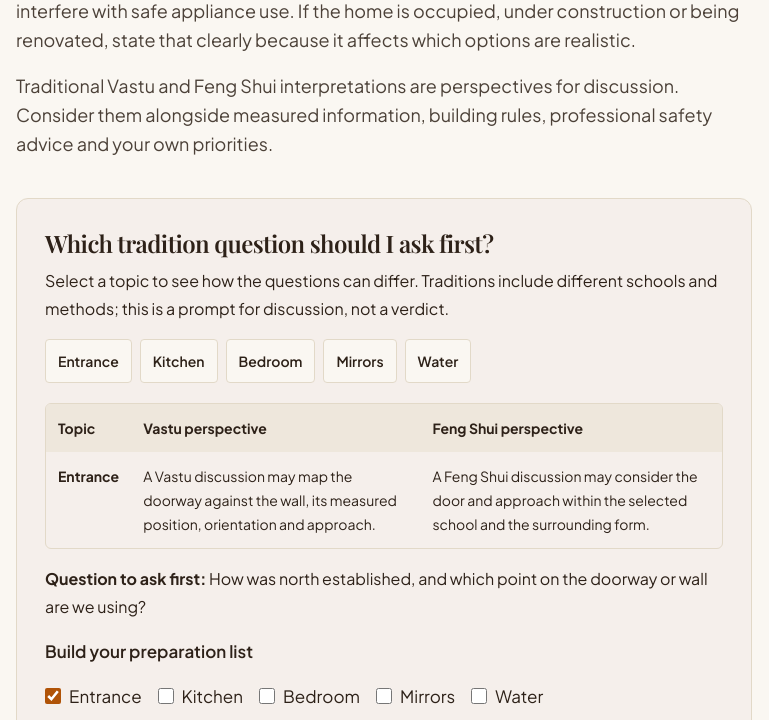
Test: blog article guides › compares tradition-specific questions and updates the preparation output
(page scrolled)
Step 1. Click the button "Kitchen" → (179, 361), box left=140, top=339, right=218, bottom=383
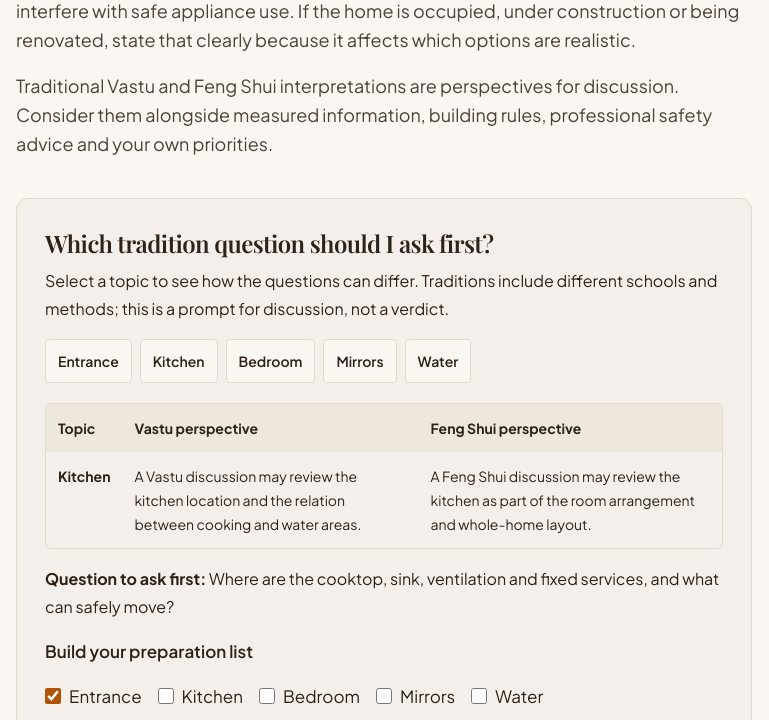
Expected: the text "Vastu discussion may review the kitchen location" is shown, left=134, top=467, right=361, bottom=533
Expected: the text "Feng Shui discussion may review the kitchen as part" is shown, left=430, top=467, right=695, bottom=533
Expected: the text "Where are the cooktop, sink, ventilation" is shown, left=45, top=568, right=719, bottom=617
Step 2. Click the checkbox labelled "Kitchen" → (166, 696), box left=158, top=688, right=174, bottom=704
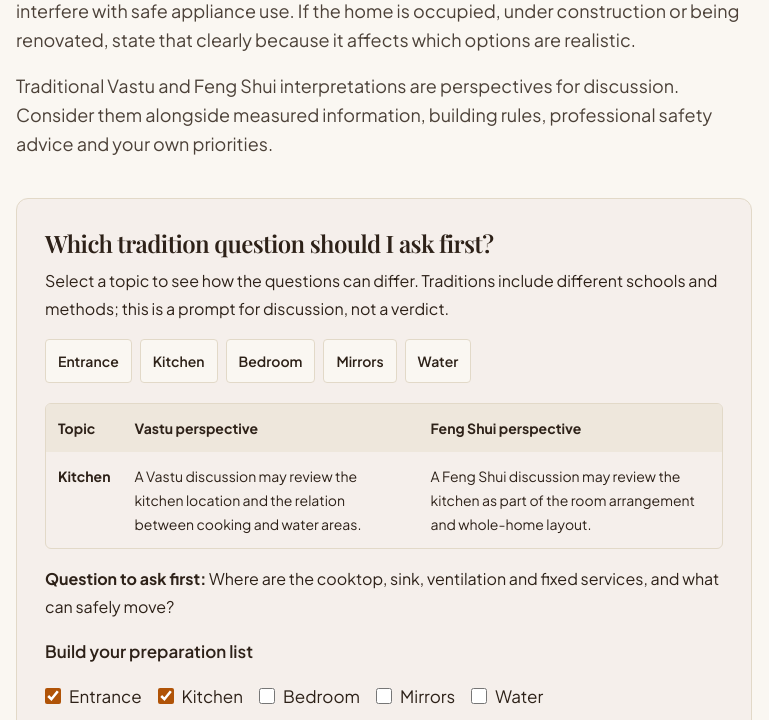
Step 3. Click the button "Mirrors" → (360, 361), box left=323, top=339, right=397, bottom=383
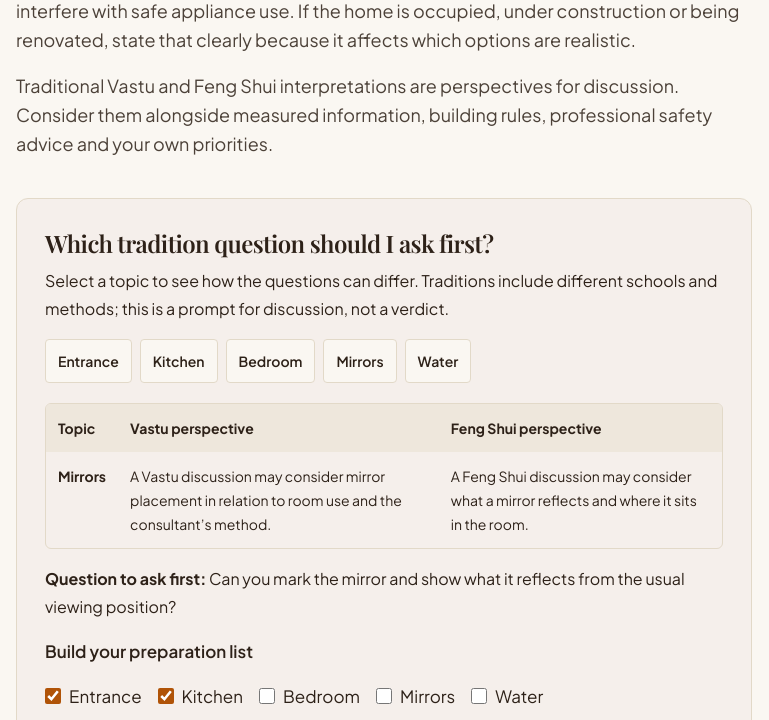
Expected: the text "what a mirror reflects" is shown, left=451, top=467, right=697, bottom=533
